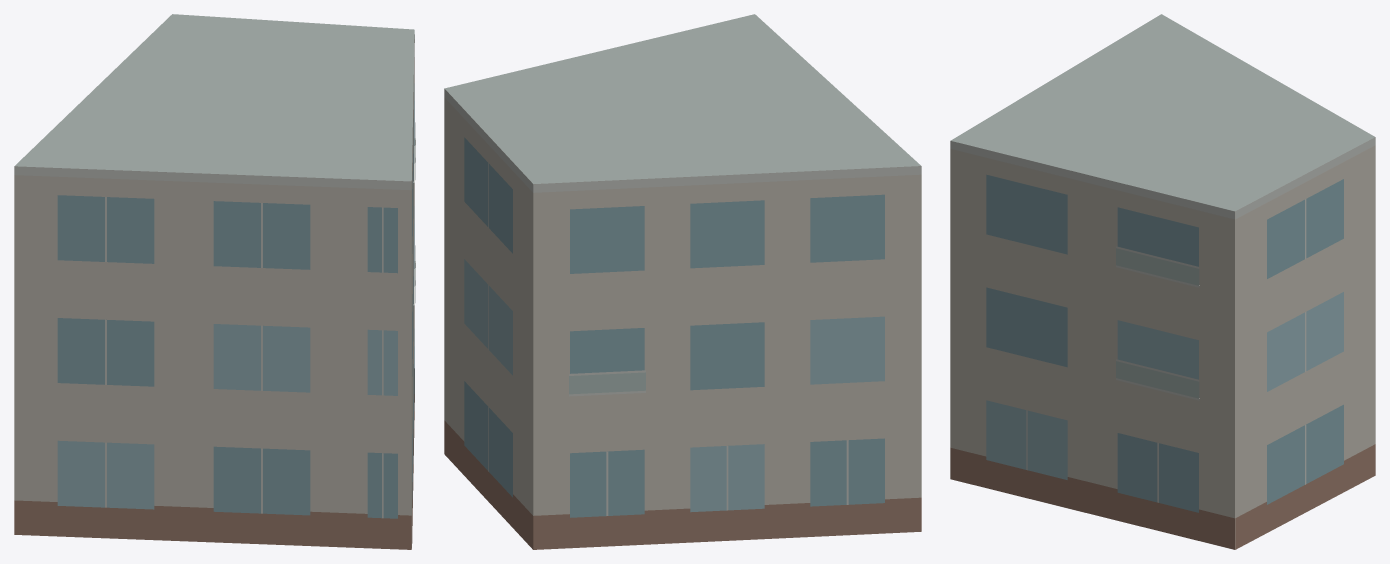
File: survey-upis-32934967.glb
The picture shows the model from 3 angles, left to right: view 1: azimuth 30°, elevation 25°; view 2: azimuth 150°, elevation 25°; view 3: azimuth 270°, elevation 25°; orthographic projection. The views are drawn at different scales.
Parts seen in each view (by area): view 1: survey-upis-32934967.tmp; view 2: survey-upis-32934967.tmp; view 3: survey-upis-32934967.tmp.
Boxes of the visible parts, bbox=[...] form: survey-upis-32934967.tmp: bbox=[14, 14, 415, 549]; survey-upis-32934967.tmp: bbox=[444, 14, 921, 549]; survey-upis-32934967.tmp: bbox=[950, 14, 1375, 549].
Size of the model in its own units: 12.77 by 10.2 by 11.62.
